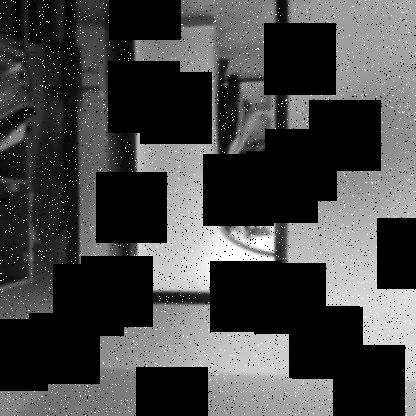Porte: (43, 0, 294, 348)
